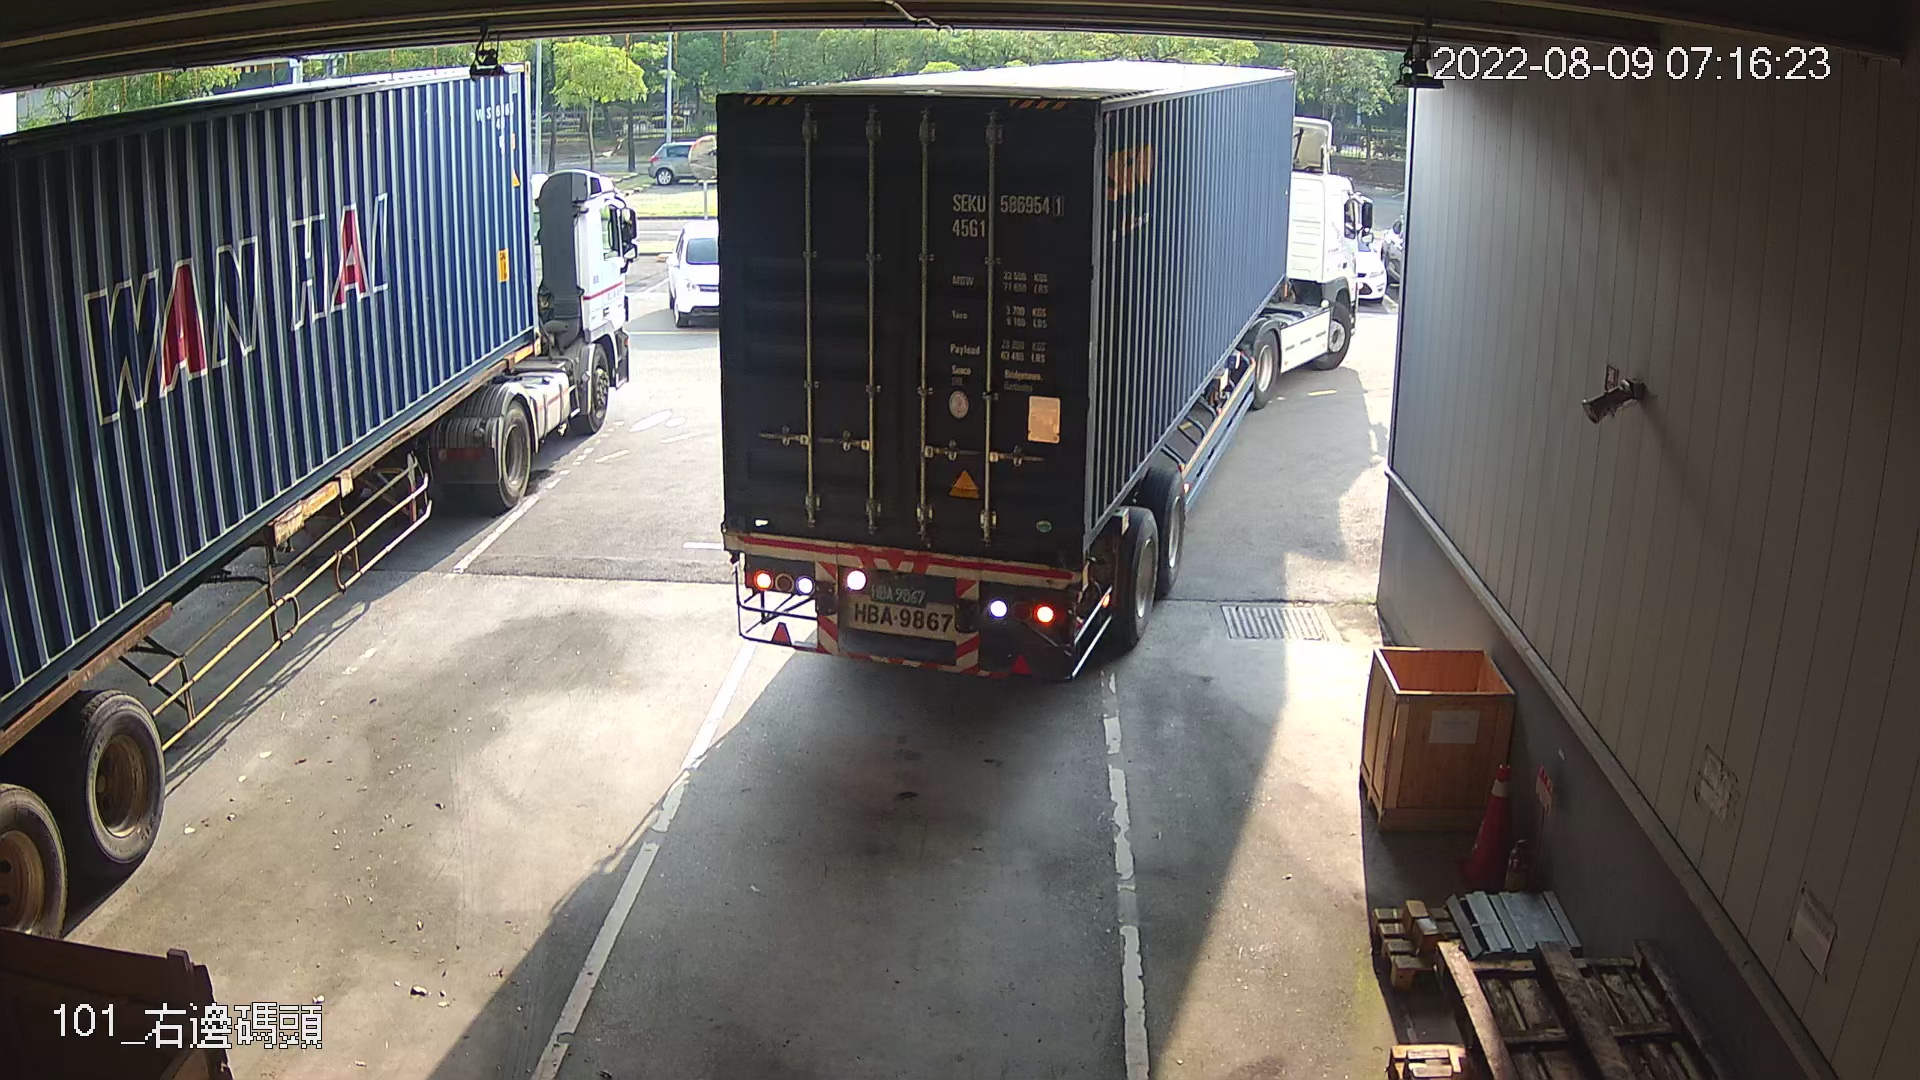container: (942, 179, 1075, 248)
